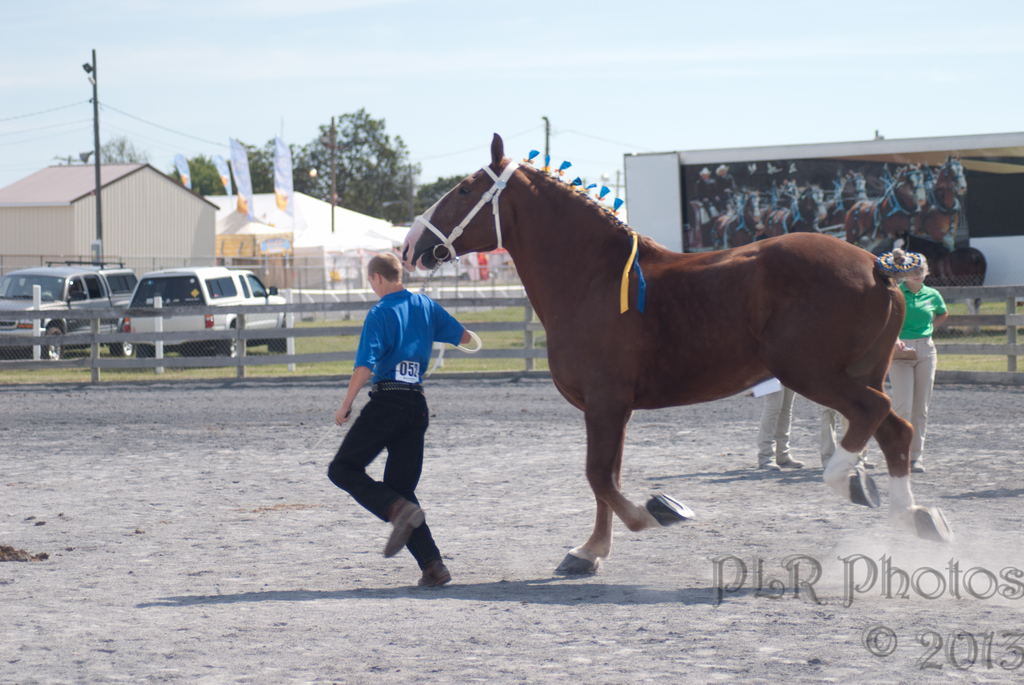horse: (398, 132, 968, 579)
